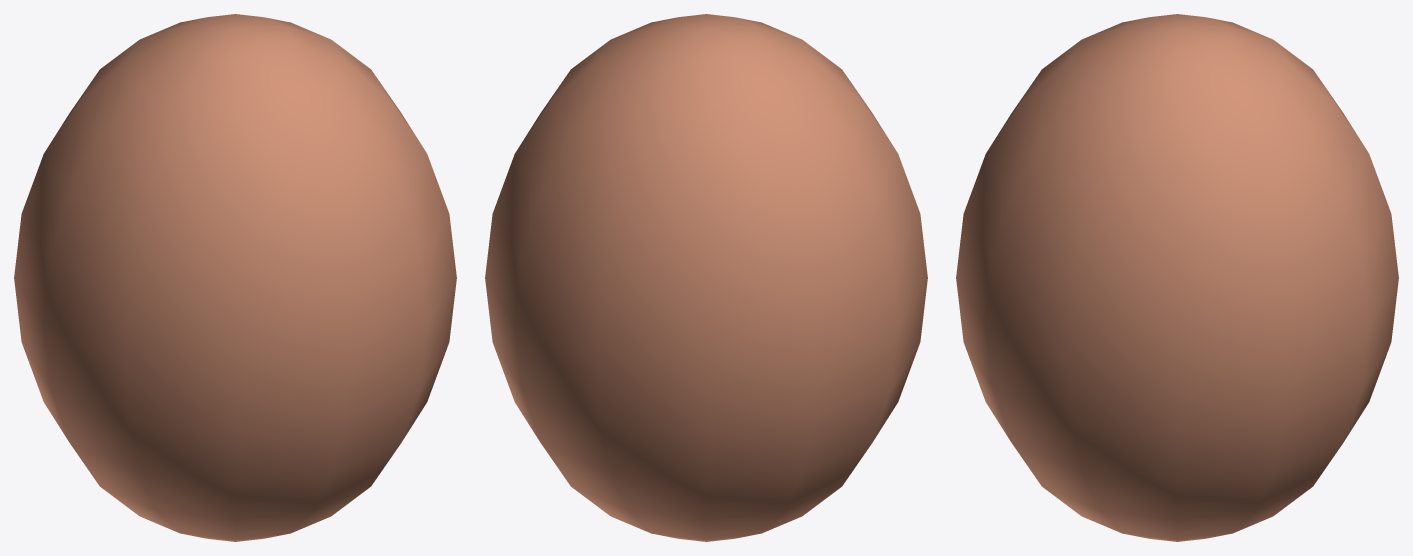
Rendered from egg.fbx.
3 renders of one model, left to right at view 1: azimuth 30°, elevation 25°; view 2: azimuth 150°, elevation 25°; view 3: azimuth 270°, elevation 25°, orthographic.
Visible parts, largest first — view 1: pSphere2; view 2: pSphere2; view 3: pSphere2.
Boxes of the visible parts, <box> form: pSphere2: <box>14,14,456,541</box>; pSphere2: <box>485,14,927,541</box>; pSphere2: <box>956,14,1398,541</box>.
Size of the model in its own units: 1.9 by 2.35 by 1.9.
